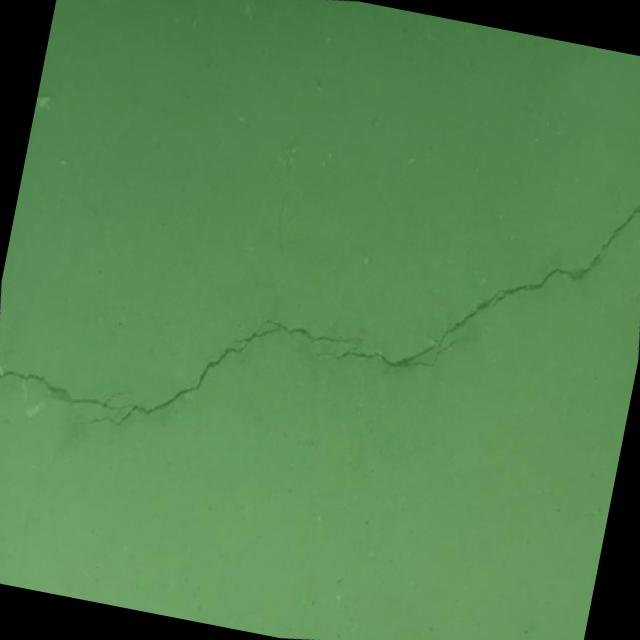crack: (0, 81, 640, 538)
